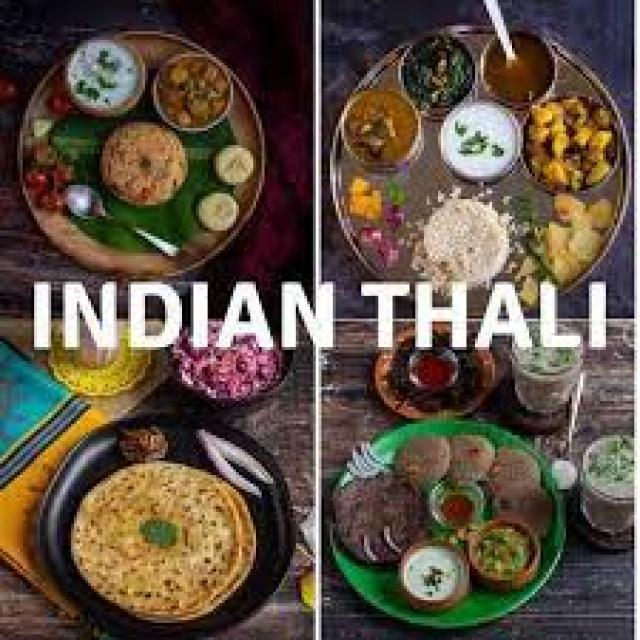pickle: (101, 419, 175, 471)
raita: (432, 99, 526, 185), (58, 32, 148, 119), (394, 537, 471, 611)
rice: (414, 196, 519, 291), (89, 116, 196, 209), (579, 435, 635, 509)
roti: (67, 461, 260, 628)
sambar-rasam: (469, 32, 562, 103), (392, 36, 477, 112)
